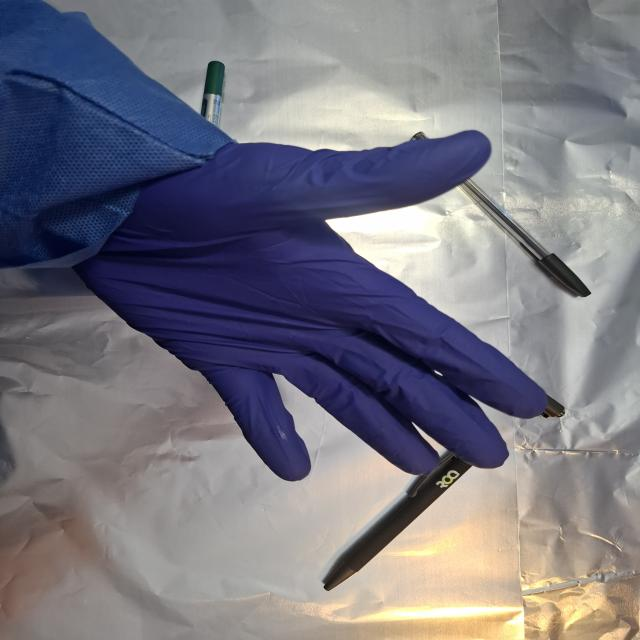glove_on: (73, 127, 552, 484)
